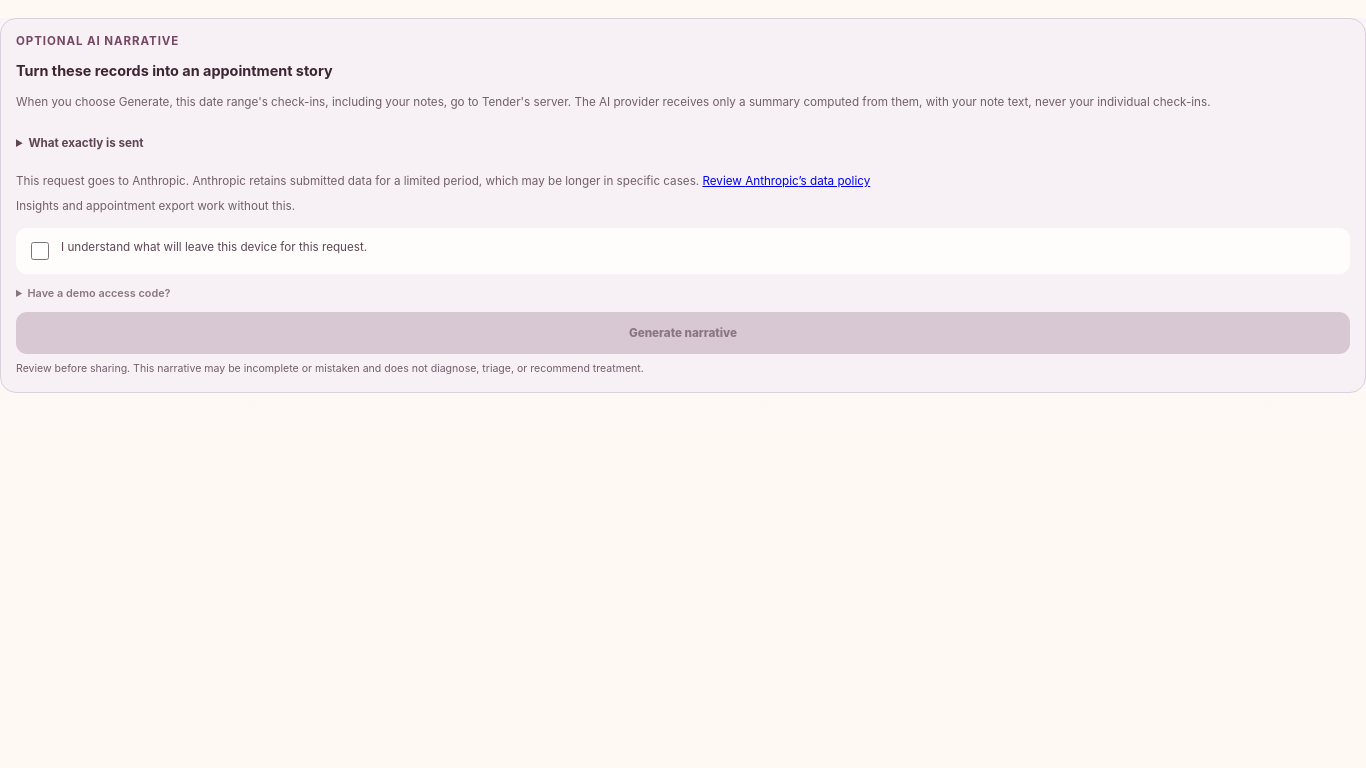
Test: AI narrative consent › shows a labeled sample narrative, never the raw error, and keeps the private observations working when generation fails
Step 1. Click the checkbox → (40, 251), box [31,242,49,260]
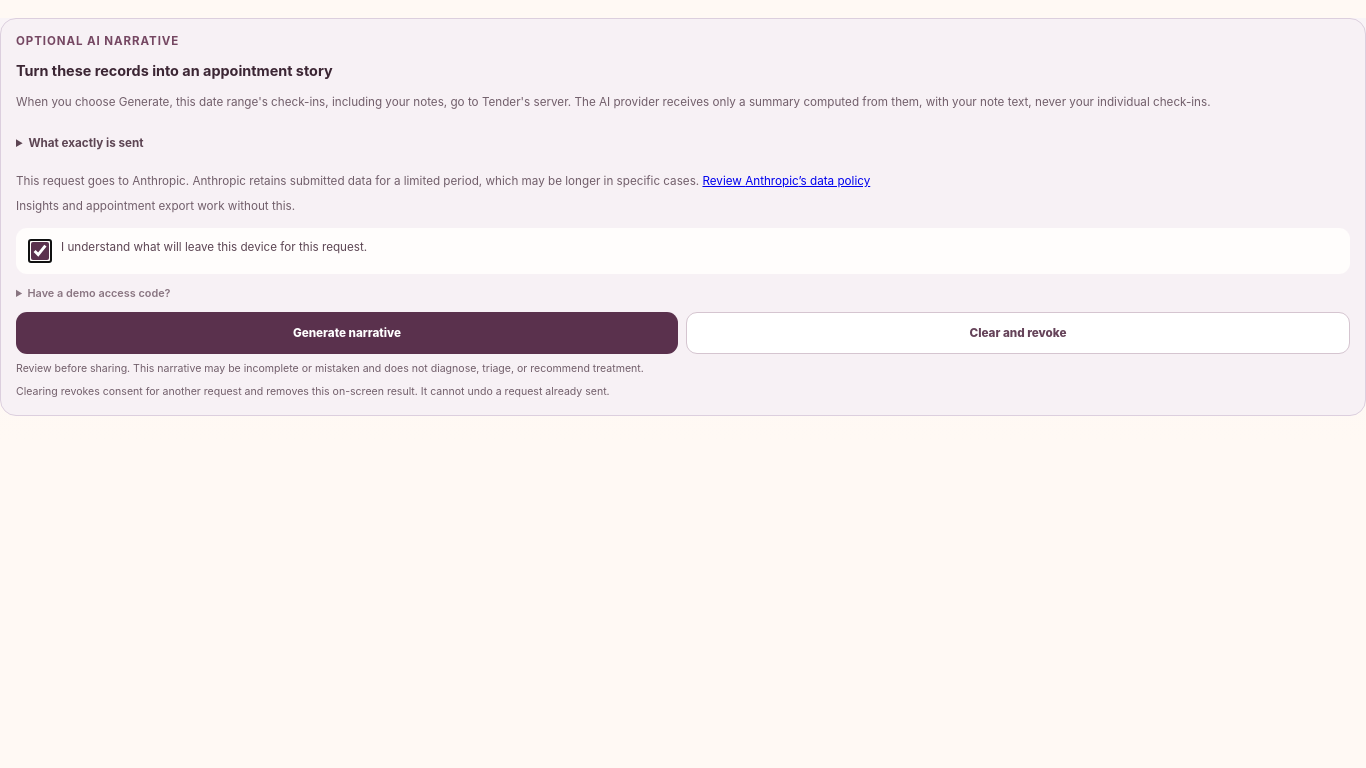
Step 2. Click the button "Generate narrative" → (347, 333), box [16,312,678,354]
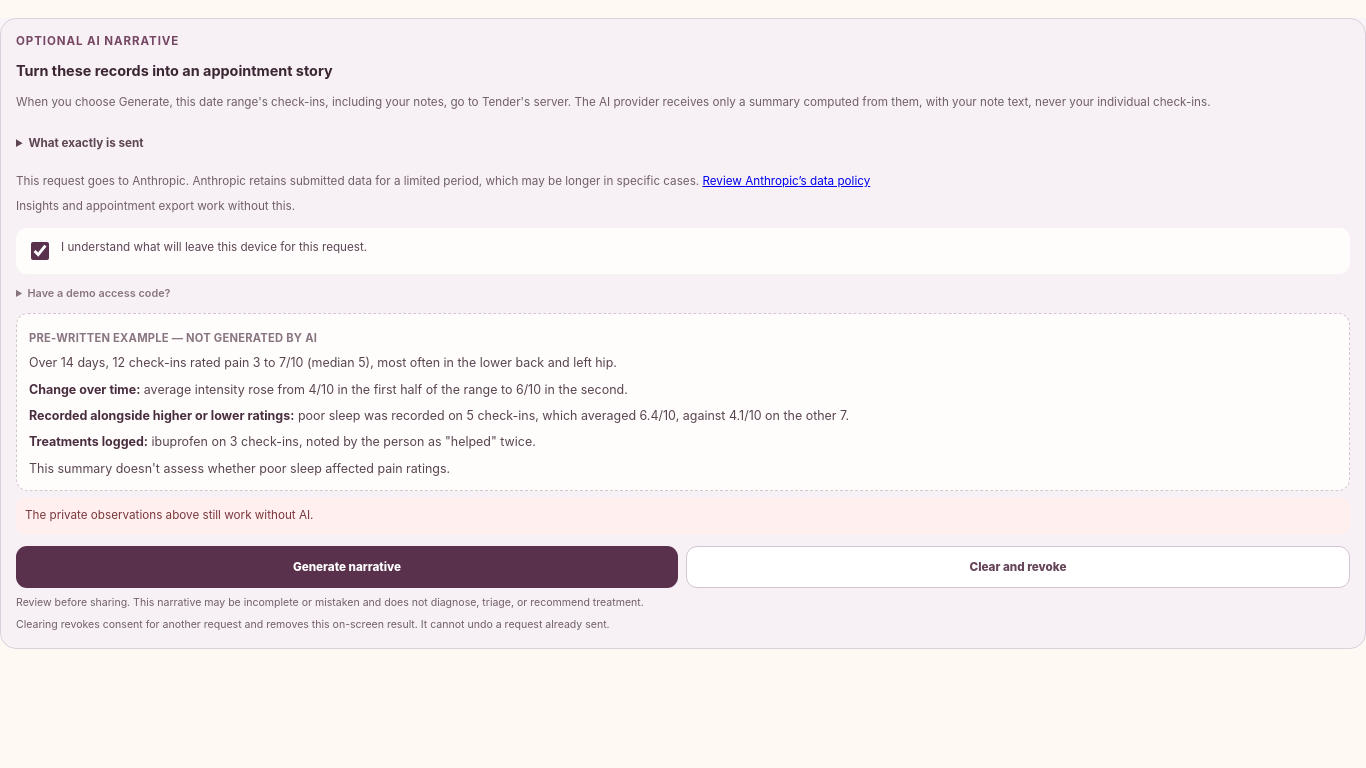
Expected: the message shows "still work without AI", [25,508,314,522]
Expected: the text "Pre-written example — not generated by AI" is shown, [29,331,317,345]
